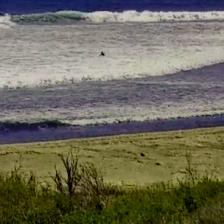surfer: (100, 51, 106, 56), (0, 11, 5, 17)
